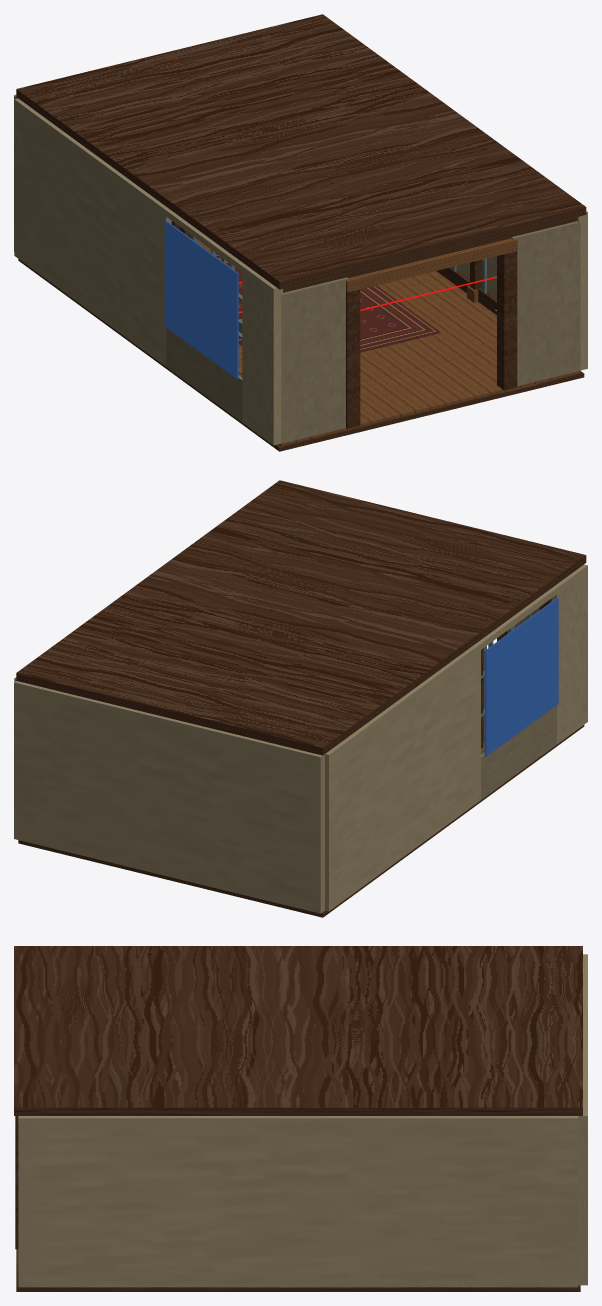
File: vault.glb
The picture shows the model from 3 angles, top to bottom: view 1: azimuth 30°, elevation 25°; view 2: azimuth 150°, elevation 25°; view 3: azimuth 270°, elevation 25°; orthographic projection. The views are drawn at different scales.
Parts seen in each view (by area): view 1: Ceiling, LeftBackPlaster, EntranceSide, EntranceSide.001, NightBeyondWindow, LeftFrontPlaster, WovenCarpet, WindowSillWall, DoorJamb.001, DoorLintel, FloorUnderlay, DoorJamb (+16 smaller); view 2: Ceiling, BackPlaster, LeftBackPlaster, NightBeyondWindow, LeftFrontPlaster, WindowSillWall, FloorUnderlay, WindowTopWall; view 3: Ceiling, RightPlaster, FloorUnderlay, BackPlaster, DoorJamb.001.
Boxes of the visible parts, x1=… form: Ceiling: x1=16, y1=14, x2=586, y2=289; LeftBackPlaster: x1=14, y1=98, x2=171, y2=366; EntranceSide: x1=281, y1=277, x2=348, y2=443; EntranceSide.001: x1=511, y1=221, x2=580, y2=385; NightBeyondWindow: x1=164, y1=220, x2=238, y2=379; LeftFrontPlaster: x1=242, y1=265, x2=282, y2=445; WovenCarpet: x1=216, y1=253, x2=440, y2=352; WindowSillWall: x1=166, y1=328, x2=242, y2=422; DoorJamb.001: x1=497, y1=251, x2=517, y2=390; DoorLintel: x1=346, y1=238, x2=517, y2=292; FloorUnderlay: x1=18, y1=259, x2=584, y2=451; DoorJamb: x1=346, y1=284, x2=360, y2=428; Ceiling: x1=16, y1=480, x2=586, y2=755; BackPlaster: x1=14, y1=681, x2=324, y2=913; LeftBackPlaster: x1=325, y1=643, x2=480, y2=911; NightBeyondWindow: x1=484, y1=597, x2=558, y2=756; LeftFrontPlaster: x1=551, y1=564, x2=587, y2=744; WindowSillWall: x1=481, y1=705, x2=556, y2=799; FloorUnderlay: x1=18, y1=725, x2=584, y2=917; WindowTopWall: x1=477, y1=587, x2=556, y2=649; Ceiling: x1=14, y1=946, x2=582, y2=1115; RightPlaster: x1=18, y1=1116, x2=578, y2=1287; FloorUnderlay: x1=16, y1=1249, x2=580, y2=1291; BackPlaster: x1=578, y1=954, x2=587, y2=1285; DoorJamb.001: x1=15, y1=1116, x2=18, y2=1249.
Bounding box in the file's own units: 8.51 × 4.37 × 12.3.
Materials: 20 (7 with a texture image).
